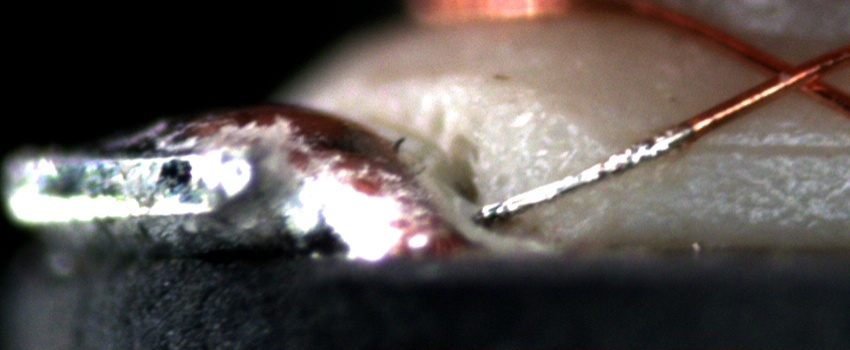CL: (744, 45, 841, 104)
DL: (687, 116, 850, 180)
TS: (480, 124, 693, 221)
